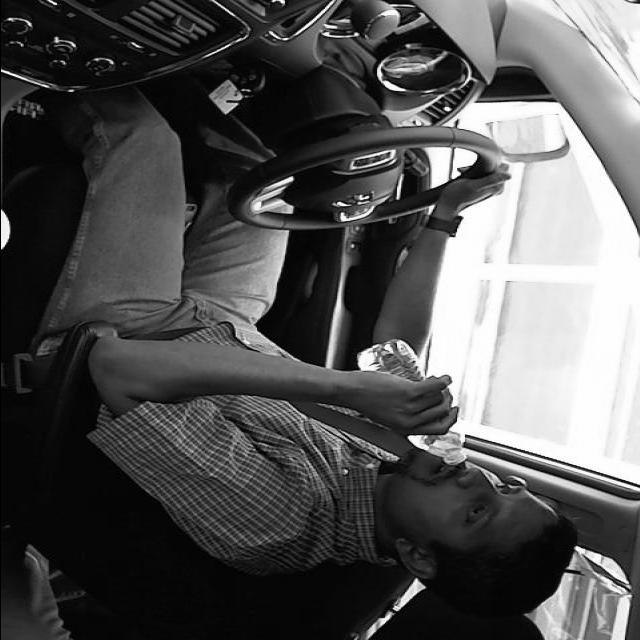drinking: (349, 338, 473, 469)
